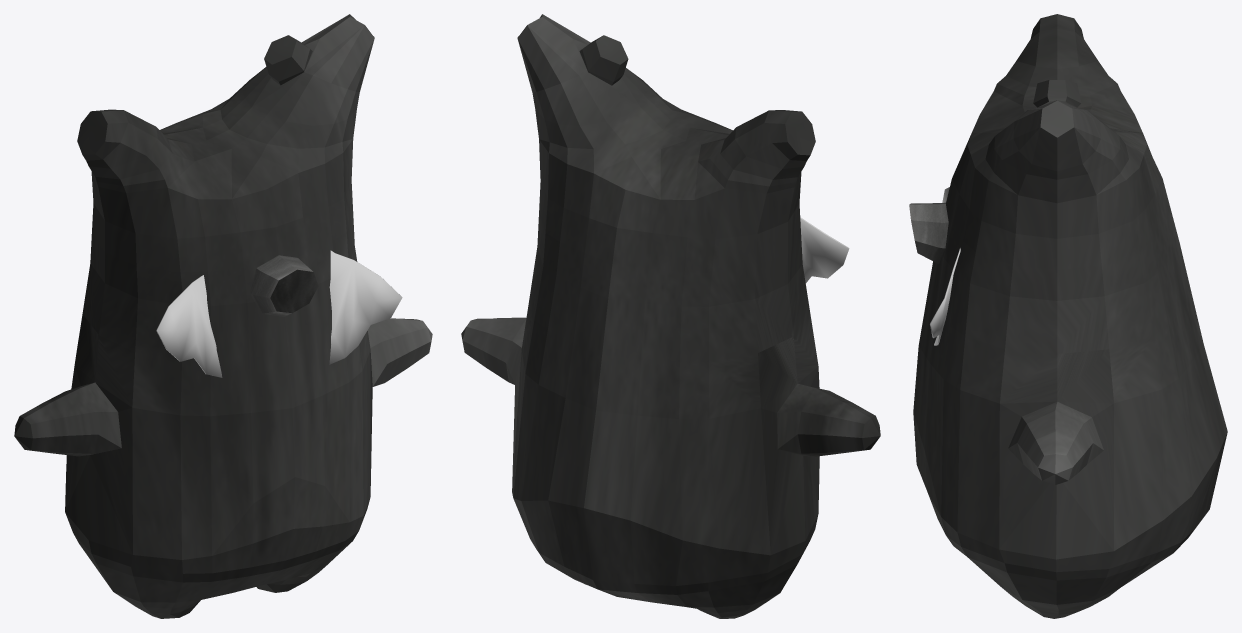
File: frame_0000.obj
3 views of the same model, side by side, from view 1: azimuth 30°, elevation 25°; view 2: azimuth 150°, elevation 25°; view 3: azimuth 270°, elevation 25° (orthographic).
Parts seen in each view (by area): view 1: korok, leaf, nose; view 2: korok, leaf; view 3: korok, nose, leaf.
Boxes of the visible parts, x1,y1,x2,y2 form: korok: (14,14,432,618); leaf: (156,250,402,377); nose: (250,255,318,316); korok: (461,14,880,618); leaf: (800,217,849,283); korok: (913,14,1227,618); nose: (909,202,948,263); leaf: (930,187,960,345).
Bounding box in the file's own units: 1.78 × 2.25 × 1.18.
